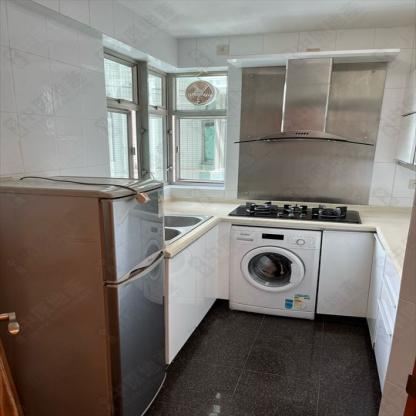Exhaust Fan: (183, 79, 214, 105)
Exhaust Hood: (235, 58, 372, 144)
Fridge: (0, 176, 170, 414)
Sink: (166, 213, 213, 245)
Stove: (227, 202, 363, 224)
Washing Machine: (228, 224, 324, 318)
